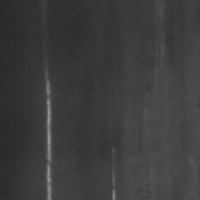scratches: (39, 69, 57, 199)
